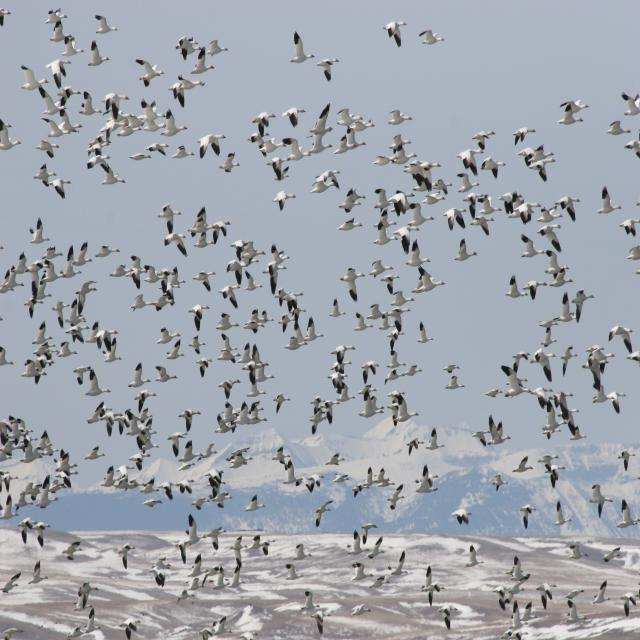bird: (300, 594, 337, 636), (475, 418, 512, 450), (583, 347, 614, 385), (285, 30, 315, 65), (418, 567, 444, 607), (297, 313, 325, 347), (594, 184, 624, 215), (588, 484, 613, 519), (409, 270, 444, 295), (613, 499, 639, 532), (338, 268, 362, 302), (595, 388, 625, 415), (241, 398, 268, 428), (510, 598, 534, 631), (531, 352, 558, 381), (166, 83, 196, 109), (310, 401, 336, 431), (216, 335, 241, 366), (229, 244, 262, 267), (542, 255, 572, 280), (572, 286, 594, 320), (0, 118, 22, 152), (40, 118, 74, 140), (542, 264, 573, 288), (382, 19, 408, 47), (606, 326, 636, 350), (94, 164, 124, 188), (311, 170, 342, 193), (537, 224, 564, 250), (68, 581, 93, 609), (171, 76, 206, 96), (140, 108, 168, 133), (549, 289, 574, 317), (157, 113, 186, 137), (554, 497, 577, 527), (558, 390, 580, 421), (232, 269, 261, 292), (18, 66, 43, 92), (1, 571, 26, 597), (518, 236, 544, 261), (402, 239, 427, 265), (104, 95, 128, 122), (87, 40, 110, 68), (556, 197, 584, 220), (332, 133, 360, 156), (266, 264, 286, 296), (23, 284, 42, 317), (313, 57, 338, 82), (434, 606, 459, 631), (454, 238, 480, 262), (481, 157, 507, 181), (616, 596, 640, 622), (529, 388, 555, 412), (20, 362, 48, 384), (405, 171, 434, 192), (416, 29, 446, 49), (164, 233, 189, 257), (326, 376, 350, 401), (266, 160, 292, 183), (416, 466, 439, 492), (309, 106, 332, 132), (286, 325, 308, 352), (540, 417, 562, 443), (277, 137, 303, 159), (559, 346, 578, 376), (468, 217, 495, 238), (306, 132, 333, 153), (188, 208, 208, 236), (1, 268, 21, 296), (70, 242, 90, 270), (390, 409, 418, 429), (228, 534, 248, 562), (536, 324, 559, 348), (244, 367, 267, 391), (345, 533, 369, 556), (557, 102, 586, 121), (616, 449, 638, 474), (28, 218, 50, 243), (280, 107, 306, 128), (49, 60, 70, 86), (519, 504, 539, 531), (469, 131, 496, 151), (527, 162, 554, 182), (32, 491, 59, 511), (598, 546, 628, 564), (215, 414, 238, 437), (358, 394, 380, 418), (227, 264, 251, 286), (42, 261, 64, 285), (542, 464, 563, 489), (313, 503, 334, 528), (114, 545, 135, 570), (49, 303, 70, 328), (523, 278, 548, 299), (85, 156, 114, 174), (128, 363, 148, 389), (220, 154, 242, 177), (504, 278, 527, 300), (100, 341, 122, 364), (186, 553, 208, 576), (206, 39, 230, 60), (174, 38, 198, 59), (82, 380, 110, 398), (457, 155, 482, 175), (20, 440, 40, 465), (497, 384, 528, 400), (526, 148, 557, 164), (99, 330, 118, 356), (510, 128, 536, 147), (188, 59, 214, 78), (251, 140, 277, 159), (203, 228, 229, 247), (512, 559, 531, 585), (2, 492, 19, 521), (311, 178, 338, 196), (178, 410, 200, 432), (204, 136, 226, 158), (500, 194, 522, 216), (446, 208, 468, 230), (337, 190, 358, 213), (94, 16, 118, 36), (462, 544, 482, 568), (334, 105, 354, 129), (188, 308, 208, 332), (130, 432, 154, 452), (228, 567, 248, 591), (134, 59, 162, 76), (621, 91, 640, 116), (416, 319, 434, 345), (387, 110, 413, 128), (75, 281, 96, 303), (564, 590, 584, 613), (206, 492, 233, 509), (78, 92, 97, 116), (389, 551, 407, 576), (341, 282, 362, 303), (219, 287, 240, 308), (30, 322, 50, 344), (240, 343, 262, 363), (493, 590, 513, 612), (331, 384, 353, 404), (272, 193, 295, 212), (60, 541, 83, 560), (568, 420, 587, 443), (37, 139, 61, 157), (536, 587, 554, 611), (244, 309, 262, 333), (85, 404, 109, 422), (227, 450, 254, 466), (43, 8, 67, 26), (388, 135, 413, 152), (33, 164, 53, 185), (339, 267, 360, 287), (284, 562, 305, 582), (219, 380, 241, 399), (174, 541, 193, 563), (351, 561, 373, 580), (366, 536, 385, 558), (386, 348, 408, 367), (83, 610, 102, 632), (155, 367, 178, 385), (500, 363, 523, 381), (367, 573, 390, 591), (604, 121, 628, 138), (213, 568, 230, 592), (272, 395, 292, 415), (425, 427, 441, 452), (358, 524, 378, 544), (361, 363, 379, 385), (210, 224, 232, 242), (267, 243, 289, 261), (16, 522, 34, 544), (229, 242, 251, 260), (88, 133, 114, 148), (138, 70, 162, 86), (388, 494, 407, 514), (328, 298, 346, 319), (372, 467, 390, 488), (92, 244, 119, 258), (388, 393, 409, 411), (157, 292, 178, 310), (618, 221, 640, 238), (514, 210, 536, 227), (193, 274, 216, 290), (285, 296, 303, 316), (290, 544, 310, 562), (132, 394, 152, 412), (373, 230, 393, 248), (13, 255, 30, 276), (250, 121, 271, 138), (456, 178, 478, 194), (390, 293, 412, 309), (30, 560, 45, 583), (52, 181, 70, 200), (244, 496, 263, 514), (61, 40, 80, 58), (166, 438, 184, 457), (463, 196, 482, 214), (389, 315, 407, 334), (127, 454, 147, 471), (330, 348, 350, 365), (254, 536, 271, 556), (181, 441, 197, 462), (407, 159, 444, 168), (450, 512, 472, 527), (156, 204, 178, 219), (423, 192, 448, 205), (217, 312, 235, 330), (622, 140, 640, 158), (348, 119, 375, 131), (130, 294, 149, 311), (166, 342, 183, 361), (374, 213, 391, 232), (596, 580, 610, 603), (109, 265, 132, 279), (536, 210, 559, 224), (349, 602, 372, 616), (444, 376, 464, 392), (85, 446, 105, 462), (39, 431, 55, 451), (120, 623, 140, 639), (212, 616, 232, 632), (87, 323, 102, 344), (55, 342, 76, 357), (285, 475, 306, 490), (146, 143, 172, 155), (189, 334, 203, 356), (391, 198, 408, 216), (39, 475, 57, 492), (152, 571, 170, 588), (56, 474, 74, 491), (367, 304, 384, 322), (277, 312, 292, 332), (1, 6, 13, 31), (53, 450, 73, 465), (373, 156, 398, 168), (41, 245, 64, 258), (173, 145, 190, 162), (406, 438, 422, 456), (195, 360, 211, 378), (354, 315, 372, 331), (140, 267, 158, 283), (271, 446, 289, 462), (382, 368, 400, 384), (326, 452, 346, 466), (194, 233, 214, 247), (305, 478, 322, 494), (126, 271, 142, 288), (114, 419, 130, 436), (381, 276, 396, 294), (515, 461, 533, 476), (7, 414, 26, 428), (204, 465, 223, 479), (0, 345, 12, 367), (204, 479, 228, 490), (157, 328, 173, 344), (490, 475, 505, 492), (70, 370, 87, 385), (338, 220, 359, 232), (102, 468, 116, 486), (102, 418, 116, 436), (567, 544, 585, 558), (403, 366, 422, 379), (626, 242, 639, 261), (137, 75, 156, 88), (137, 479, 156, 492), (176, 589, 195, 602), (66, 626, 88, 637), (66, 331, 86, 343), (187, 514, 199, 534), (138, 99, 158, 111), (436, 181, 452, 196), (207, 537, 222, 553), (35, 533, 49, 550), (369, 262, 386, 276), (200, 444, 217, 458), (512, 351, 530, 364), (161, 486, 176, 501), (190, 499, 207, 512), (1, 475, 14, 492), (249, 535, 264, 549), (348, 484, 364, 497), (197, 144, 210, 160), (443, 363, 461, 374), (186, 577, 202, 589), (144, 500, 163, 510), (176, 484, 191, 496), (333, 474, 350, 484), (129, 154, 150, 162), (374, 189, 388, 201), (125, 478, 140, 489), (198, 629, 213, 640), (129, 256, 142, 268)
